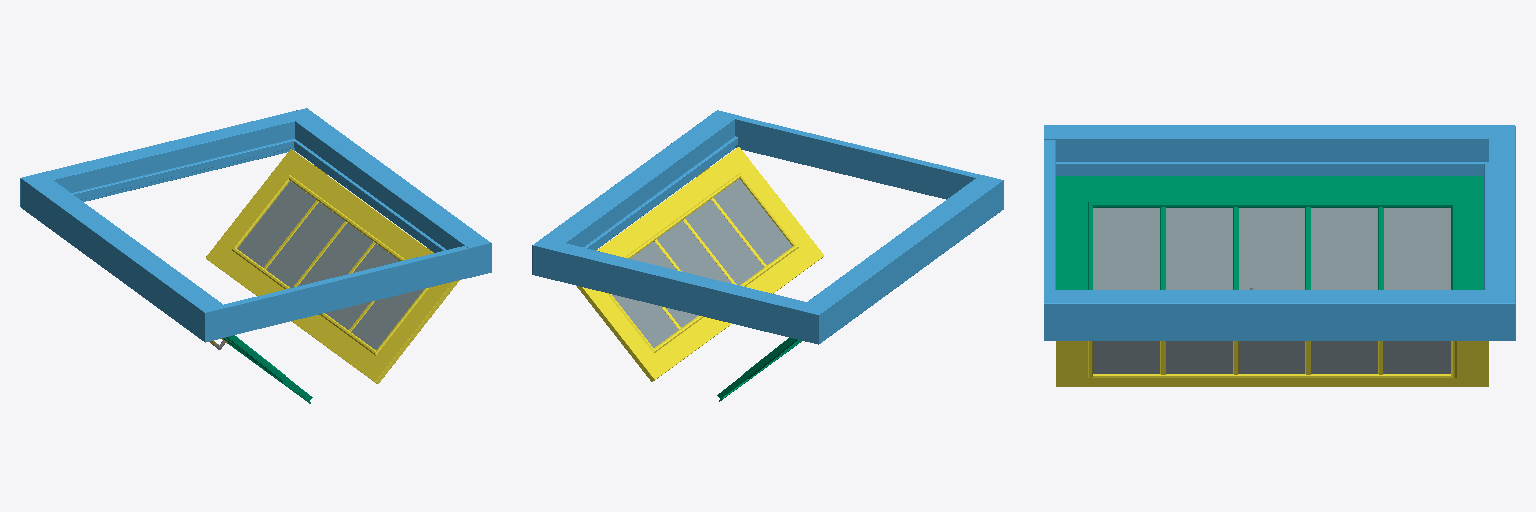
The robot description file, URDF, robot "133":
<robot name="133">


	<link name="0:virtual">
		<visual>
			<origin xyz="0.0 0.0 0.0" rpy="0 0 0"/>
			<geometry>
				<cylinder length="0" radius="0"/>
			</geometry>
		</visual>
	</link>


	<link name="1:static">
		<visual>
			<origin xyz="-0.0 -0.0 -0.0" rpy="0 0 0"/>
			<geometry>
				<mesh filename="../raw_data/133/part_meshes/1.dae" />
			</geometry>
		</visual>
	</link>


	<link name="2:door 1">
		<visual>
			<origin xyz="0.7680416382256241 -0.05000000074505806 0.06754932285442018" rpy="0 0 0"/>
			<geometry>
				<mesh filename="../raw_data/133/part_meshes/2.dae" />
			</geometry>
		</visual>
	</link>


	<link name="3:door 2">
		<visual>
			<origin xyz="-0.8002469467468379 -0.05000000074505806 0.10017209214695046" rpy="0 0 0"/>
			<geometry>
				<mesh filename="../raw_data/133/part_meshes/3.dae" />
			</geometry>
		</visual>
	</link>


	<link name="4:handle 1">
		<visual>
			<origin xyz="0.23575050879787252 -0.9423599705696106 0.5889078013424442" rpy="0 0 0"/>
			<geometry>
				<mesh filename="../raw_data/133/part_meshes/4.dae" />
			</geometry>
		</visual>
	</link>


	<joint name="0:virtual::1:static" type="fixed">
		<parent link="0:virtual"/>
		<child link="1:static"/>
		<origin xyz="0.0 0.0 0.0" rpy="0 0 0"/>
	</joint>


	<joint name="0:virtual::2:door 1_rotation" type="revolute">
		<parent link="0:virtual"/>
		<child link="2:door 1"/>
		<origin xyz="-0.7680416382256241 0.05000000074505806 -0.06754932285442018" rpy="0 0 0"/>
		<limit lower="-0.7853981633974483" upper="1.6807520696705394" effort="10" velocity="3"/>
		<axis xyz="0.0 1.0 0.0"/>
	</joint>


	<joint name="0:virtual::3:door 2_rotation" type="revolute">
		<parent link="0:virtual"/>
		<child link="3:door 2"/>
		<origin xyz="0.8002469467468379 0.05000000074505806 -0.10017209214695046" rpy="0 0 0"/>
		<limit lower="-2.0263272615654166" upper="0.8482300164692442" effort="10" velocity="3"/>
		<axis xyz="0.0 1.0 0.0"/>
	</joint>


	<joint name="2:door 1::4:handle 1_rotation" type="revolute">
		<parent link="2:door 1"/>
		<child link="4:handle 1"/>
		<origin xyz="0.5322911294277516 0.8923599698245526 -0.5213584784880241" rpy="0 0 0"/>
		<limit lower="-0.7382742735936013" upper="0.0" effort="10" velocity="3"/>
		<axis xyz="-0.7025243861900091 0.0 -0.7116596706350242"/>
	</joint>


</robot>

--- Facts derived from the render (not from the file) ---
Views: 3 orthographic renders of the robot side by side, from view 1: azimuth 30°, elevation 25°; view 2: azimuth 150°, elevation 25°; view 3: azimuth 270°, elevation 25°.
Model 133 with 5 links and 4 joints (3 revolute, 1 fixed), rooted at 0:virtual, posed every joint at zero.
Links seen in each view (by area): view 1: 1:static, 3:door 2, 2:door 1; view 2: 1:static, 3:door 2, 2:door 1; view 3: 1:static, 2:door 1, 3:door 2.
Link boxes in pixels (x1=…): 1:static: x1=20, y1=108, x2=491, y2=342; 3:door 2: x1=206, y1=149, x2=459, y2=383; 2:door 1: x1=223, y1=335, x2=312, y2=403; 1:static: x1=532, y1=110, x2=1003, y2=344; 3:door 2: x1=577, y1=147, x2=823, y2=381; 2:door 1: x1=717, y1=338, x2=801, y2=401; 1:static: x1=1044, y1=125, x2=1515, y2=340; 2:door 1: x1=1056, y1=176, x2=1483, y2=289; 3:door 2: x1=1056, y1=341, x2=1488, y2=386.
Size in the robot's own frame: 1.9 by 2.12 by 0.77 metres.
4 mesh visuals loaded from 4 distinct referenced files (4 Collada DAE).